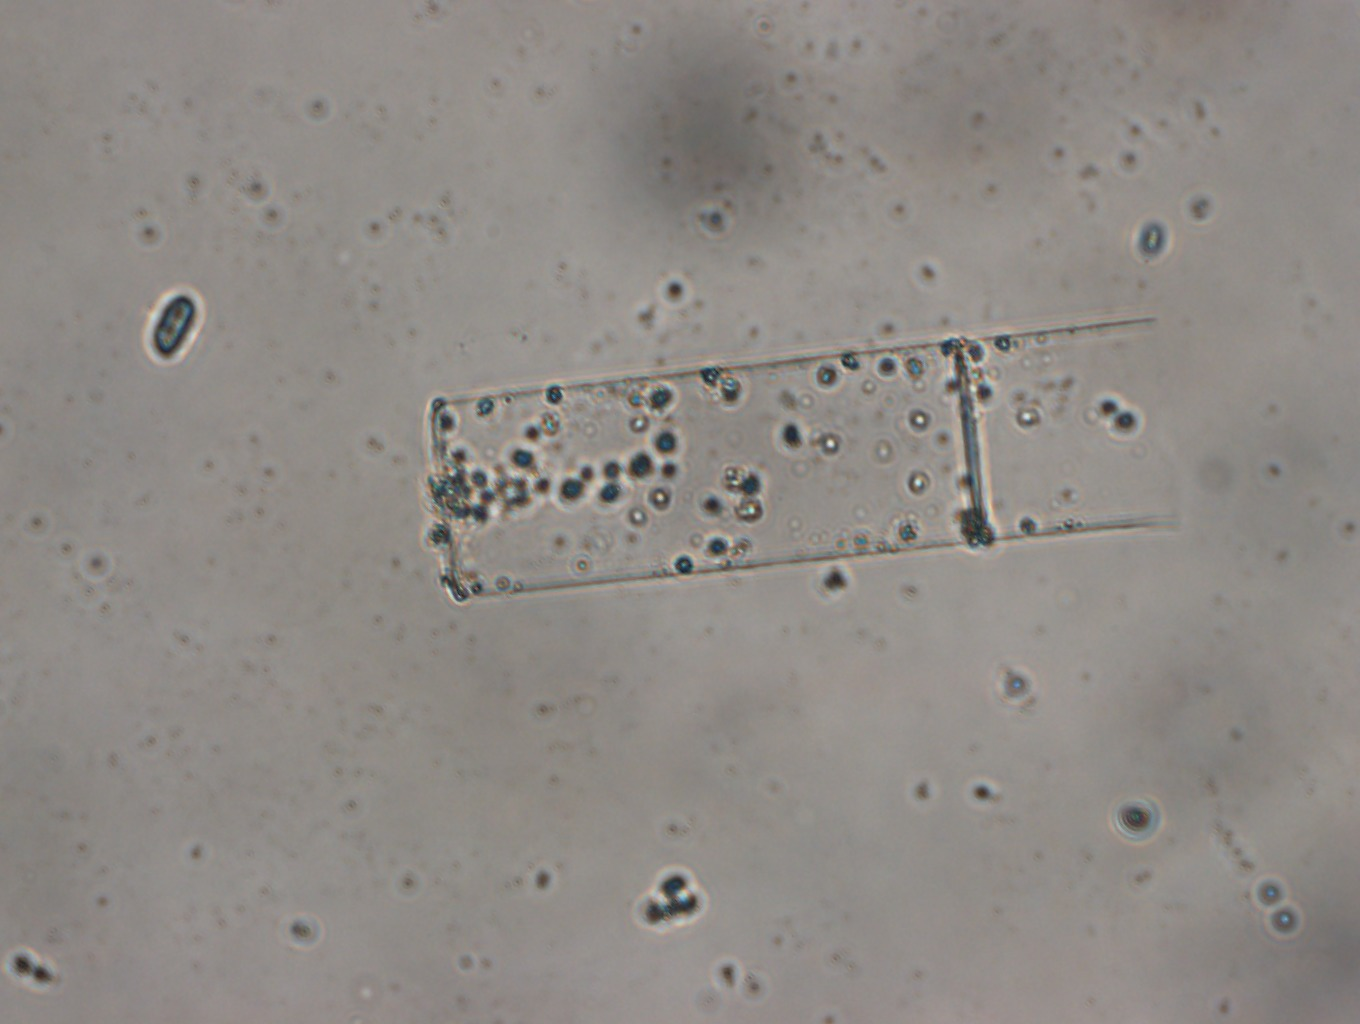guinardia flaccida: (421, 311, 1190, 606)
